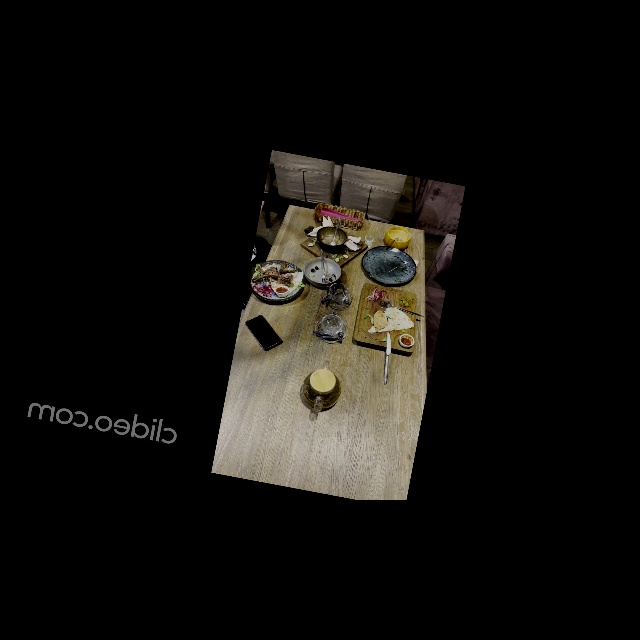Том Ям(пустая тарелка): (297, 220, 370, 273)
закуска(пустая тарелка): (351, 282, 425, 355)
мясо(пустая тарелка): (243, 255, 309, 307)
салат цезарь: (301, 254, 344, 291)
салат(пустая тарелка): (358, 242, 421, 290)
сырный суп(пустая тарелка): (383, 224, 413, 252)
